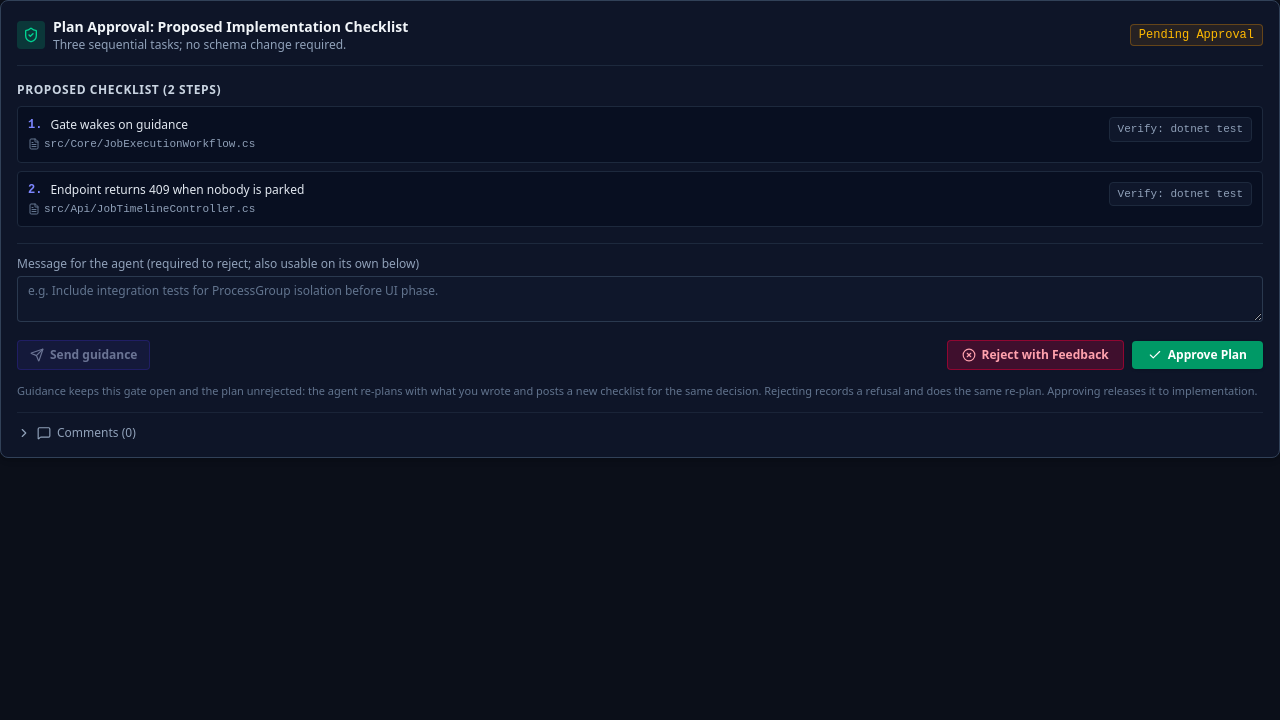
Scenario: PlanApprovalCard › shows why a refused guidance left the gate open instead of going quiet
Replace the text in the text box with placeholder "integration tests for ProcessGroup isolation" with "Drop task 2, it is already merged upstream." at (640, 299), box 17,276 -> 1263,322
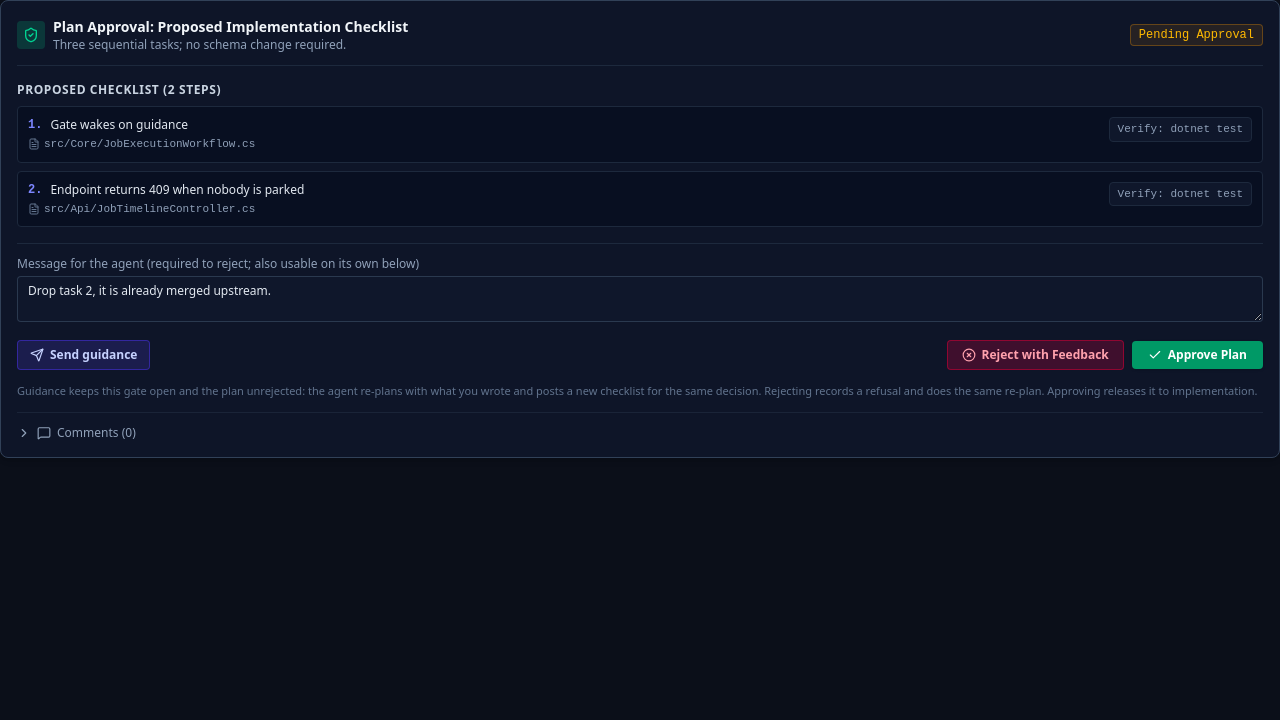
Click the button with test id "plan-send-guidance" at (84, 355), box 17,340 -> 150,370
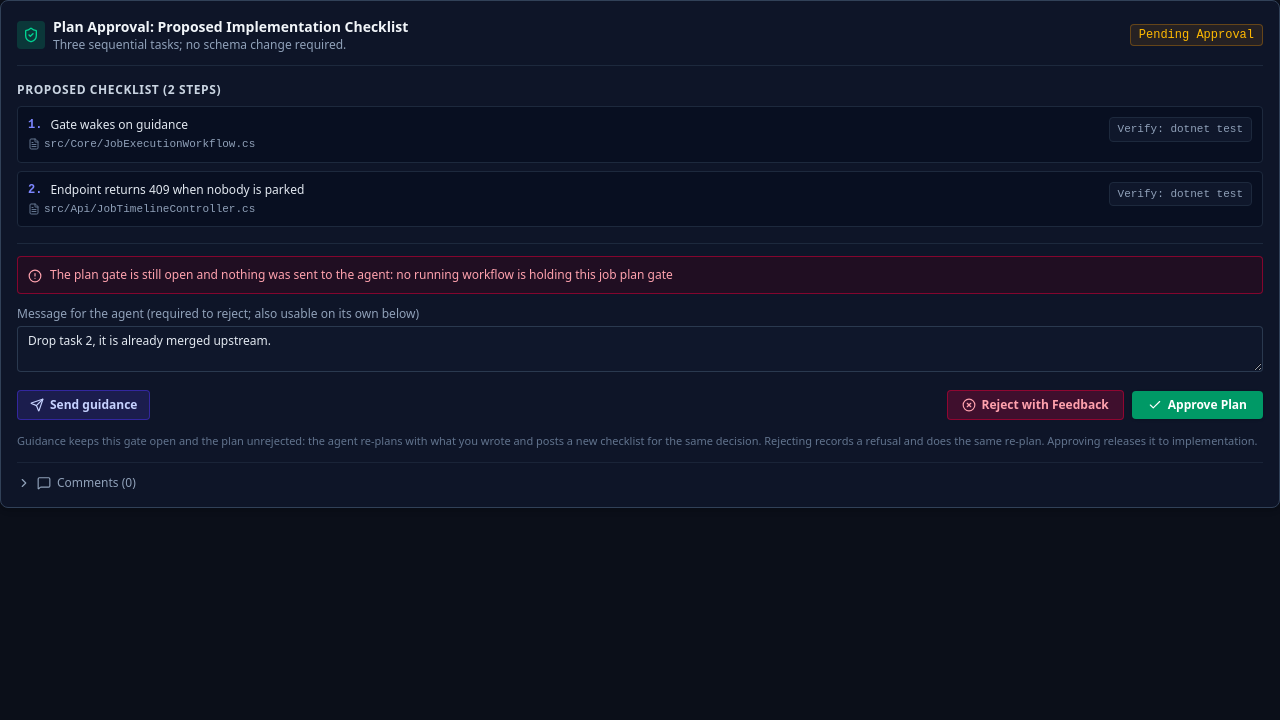
Check: the text with test id "plan-verdict-badge" reads "Pending Approval", box 1139,28 -> 1254,42
Check: the message with test id "plan-card-error" shows "no running workflow is holding this job plan gate", box 396,266 -> 673,283
